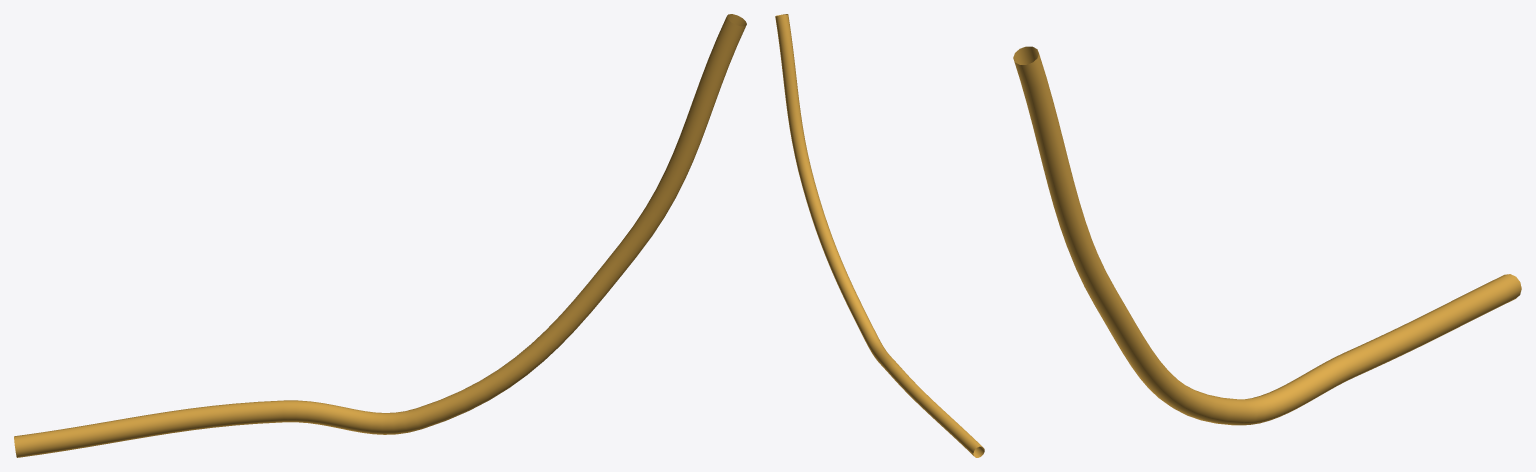
The picture shows the model from 3 angles, left to right: view 1: azimuth 30°, elevation 25°; view 2: azimuth 150°, elevation 25°; view 3: azimuth 270°, elevation 25°; orthographic projection. The views are drawn at different scales.
Parts seen in each view (by area): view 1: 左侧腮腺管; view 2: 左侧腮腺管; view 3: 左侧腮腺管.
Part boxes in pixels (<box>): 左侧腮腺管: <box>14,14,746,457</box>; 左侧腮腺管: <box>775,14,984,457</box>; 左侧腮腺管: <box>1013,46,1521,425</box>.
Bounding box in the file's own units: 0.0417 × 0.034 × 0.0281.
